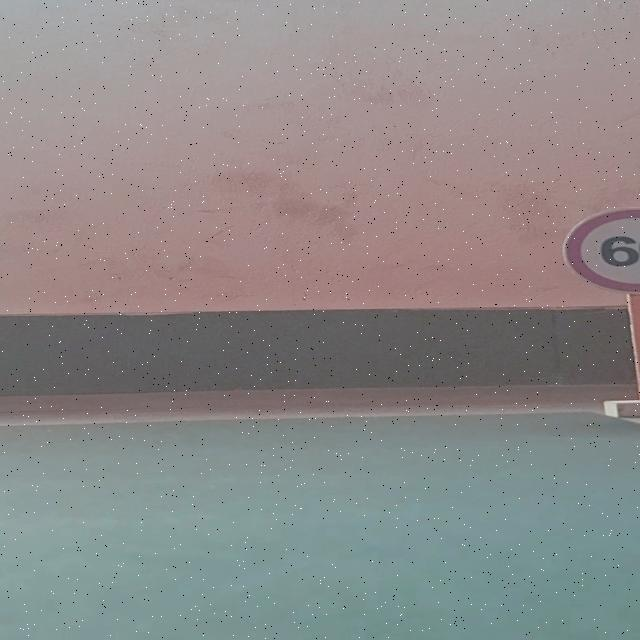Speed60: (560, 205, 640, 292)
